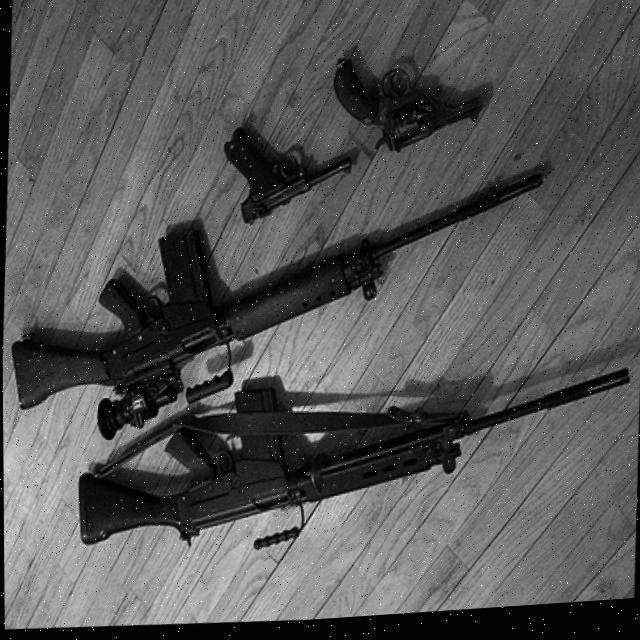firearm: (5, 158, 544, 463), (72, 355, 631, 577)
pistol: (328, 53, 482, 166), (219, 122, 353, 234)
